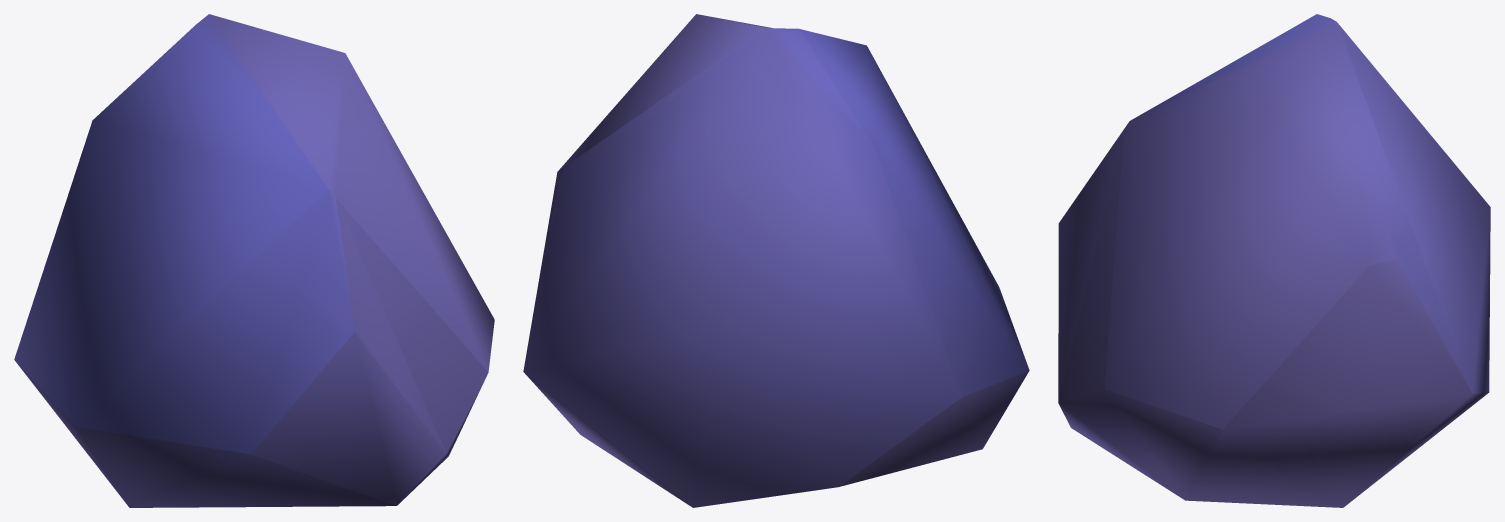
Rendered from model.progressive.glb.
3 views of the same model, side by side, from view 1: azimuth 30°, elevation 25°; view 2: azimuth 150°, elevation 25°; view 3: azimuth 270°, elevation 25° (orthographic). The views are drawn at different scales.
Visible parts, largest first — view 1: material; view 2: material; view 3: material.
Boxes of the visible parts, x1,y1,x2,y2 form: material: (14, 14, 494, 507); material: (523, 14, 1029, 507); material: (1058, 14, 1490, 507).
Bounding box in the file's own units: 1.86 × 1.8 × 1.74.
1 material, 1 textured.
